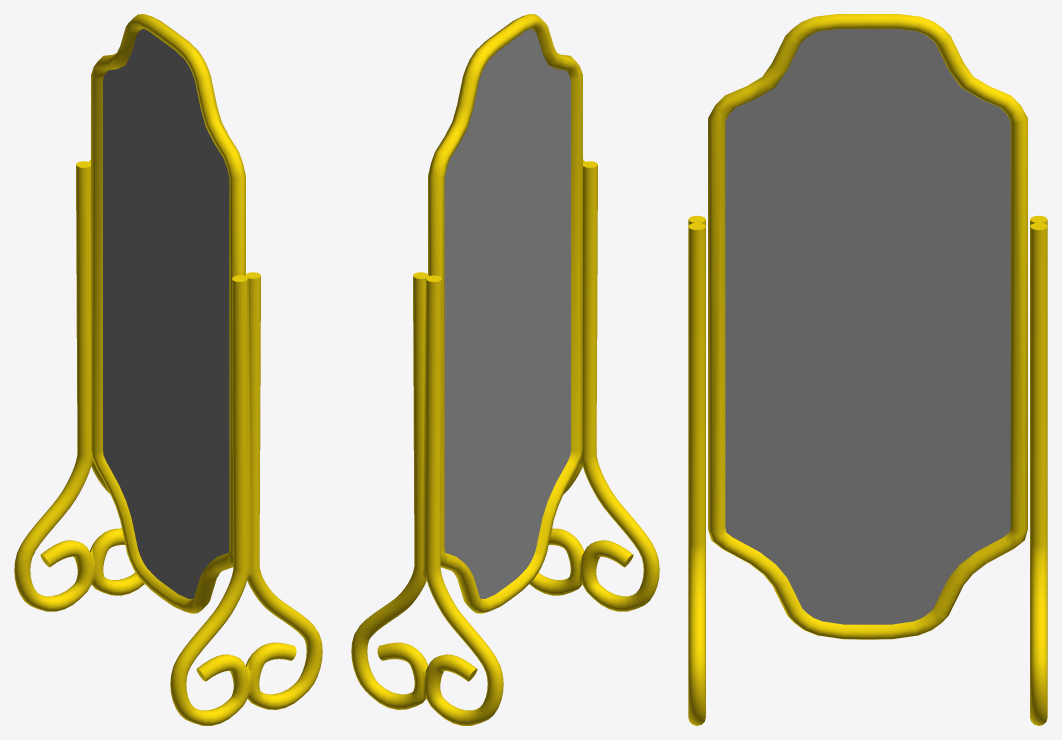
The model's file is SM_Mirror.FBX.
The picture shows the model from 3 angles, left to right: view 1: azimuth 30°, elevation 25°; view 2: azimuth 150°, elevation 25°; view 3: azimuth 270°, elevation 25°; orthographic projection. The views are drawn at different scales.
Parts seen in each view (by area): view 1: Plane006; view 2: Plane006; view 3: Plane006.
Boxes of the visible parts, <box> form: Plane006: <box>14,14,322,725</box>; Plane006: <box>351,14,659,725</box>; Plane006: <box>688,14,1047,725</box>.
Size of the model in its own units: 19.33 by 77.48 by 36.55.
